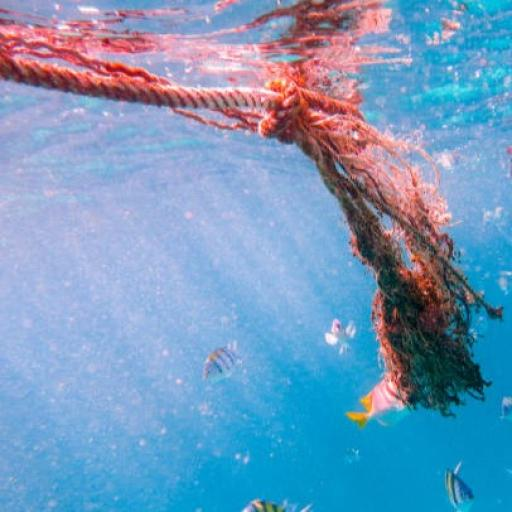net: (1, 4, 512, 420)
